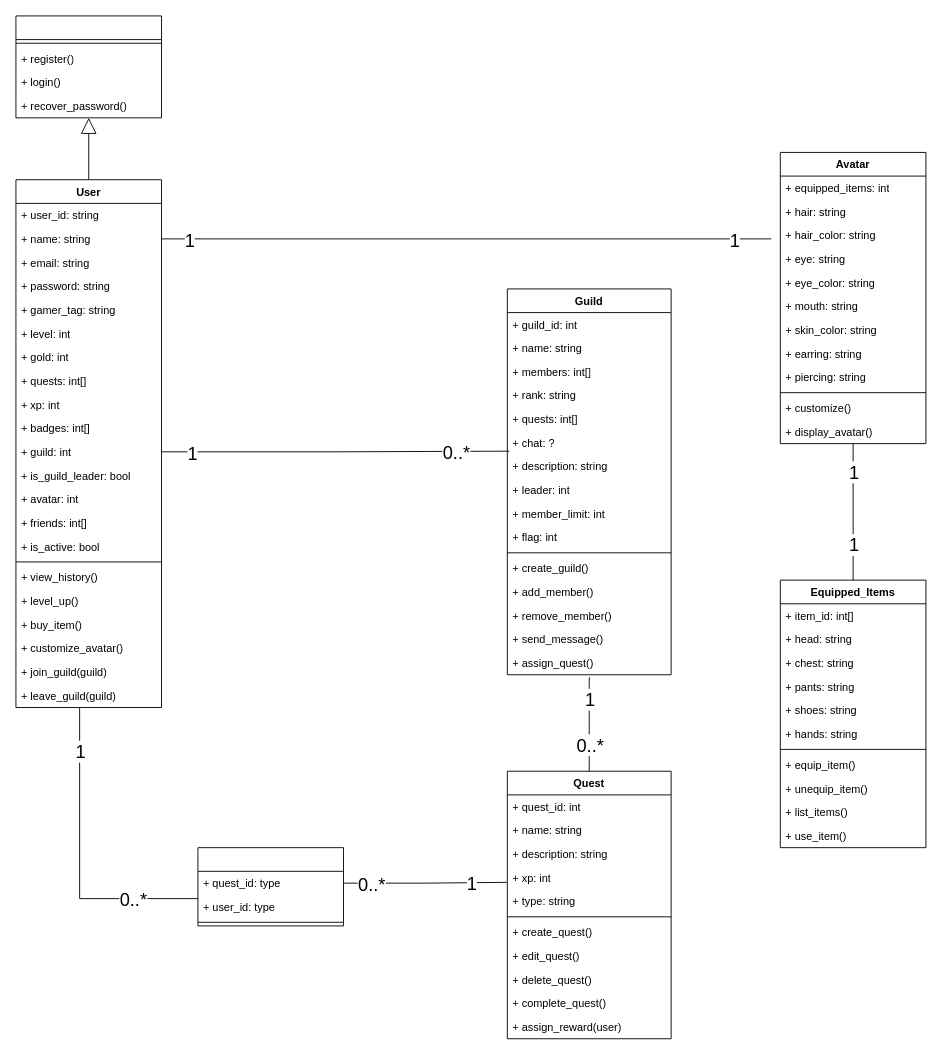
Some shapes in this 942 by 1057 pixel diagram are drawn without their labels. Here are the shapes that lost their labels. From the top down, the box of each, then its label:
(15, 15, 162, 118): User_Not_Logged
(197, 847, 344, 926): Guild_Quest
